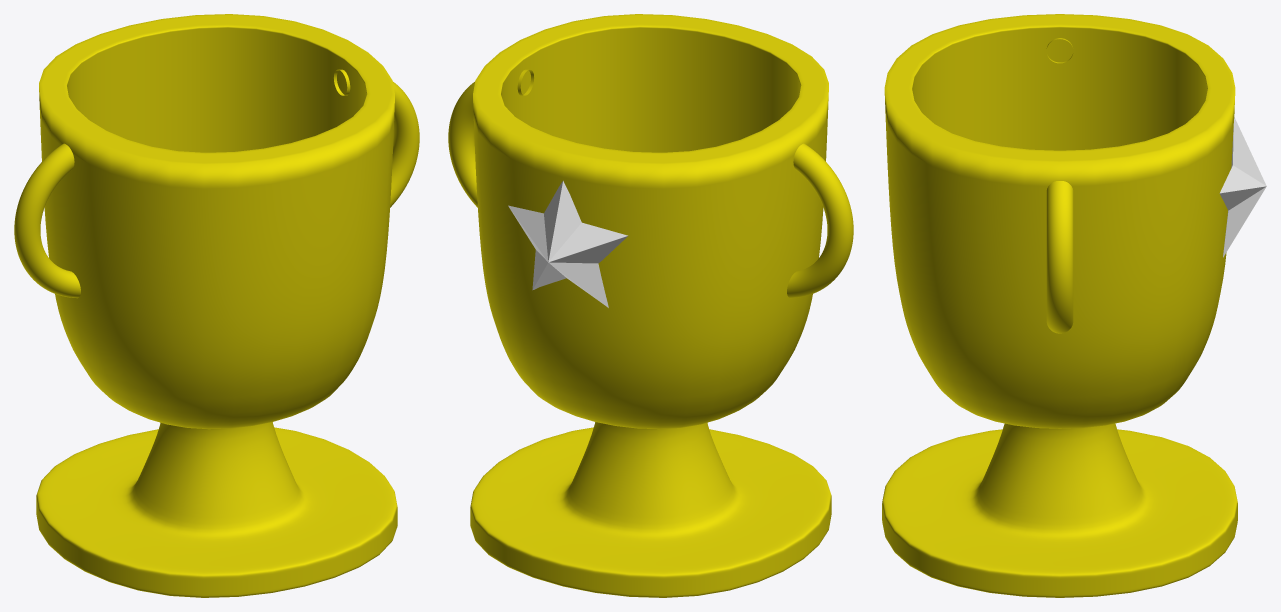
Rendered from Trophy.fbx.
The picture shows the model from 3 angles, left to right: view 1: azimuth 30°, elevation 25°; view 2: azimuth 150°, elevation 25°; view 3: azimuth 270°, elevation 25°; orthographic projection.
Parts seen in each view (by area): view 1: Cube, Torus; view 2: Cube, Torus, Star; view 3: Cube, Torus, Star.
Boxes of the visible parts, x1,y1,x2,y2 form: Cube: (36, 14, 397, 597); Torus: (14, 69, 419, 298); Cube: (470, 14, 831, 597); Torus: (448, 69, 853, 298); Star: (508, 180, 628, 307); Cube: (882, 14, 1237, 597); Torus: (1046, 38, 1073, 333); Star: (1219, 117, 1266, 257).
Size of the model in its own units: 240 by 249 by 198.
